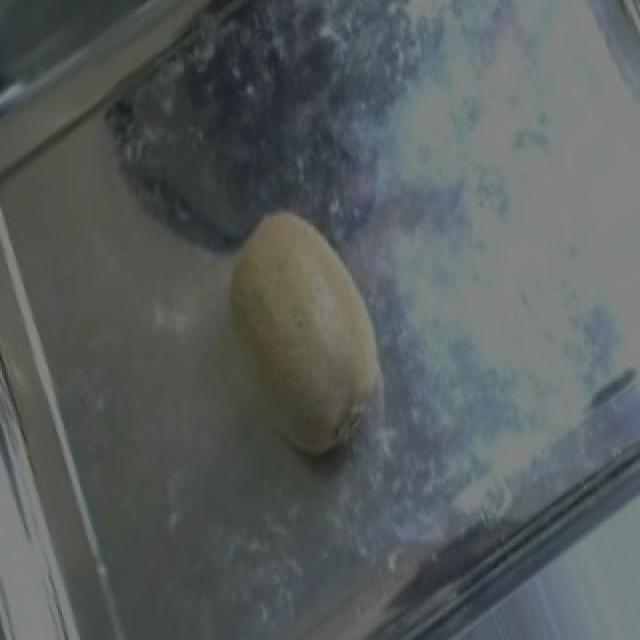Fruit: (184, 184, 416, 484)
